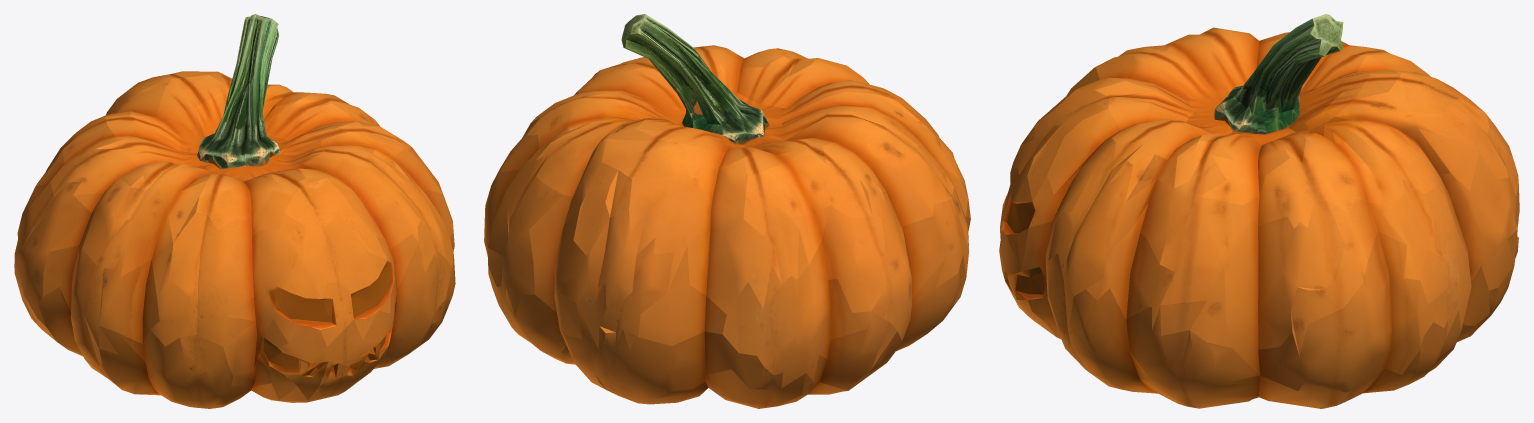
3 renders of one model, left to right at view 1: azimuth 30°, elevation 25°; view 2: azimuth 150°, elevation 25°; view 3: azimuth 270°, elevation 25°, orthographic. The views are drawn at different scales.
Bounding box in the file's own units: 1.83 × 1.43 × 1.9.
Materials: 1 (1 with a texture image).
